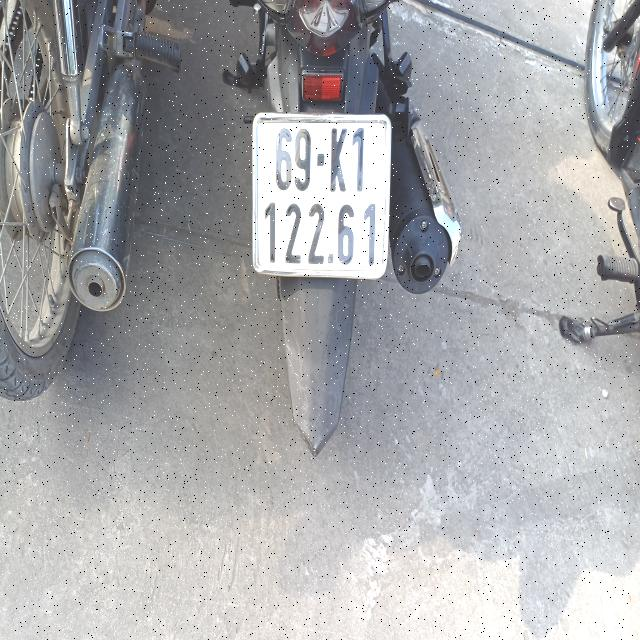1: (362, 198, 379, 274), (262, 196, 277, 266), (352, 124, 364, 194)
2: (283, 200, 302, 267), (307, 200, 326, 266)
6: (273, 127, 293, 193), (338, 203, 354, 271)
9: (295, 124, 311, 196)
K: (328, 126, 348, 198)
